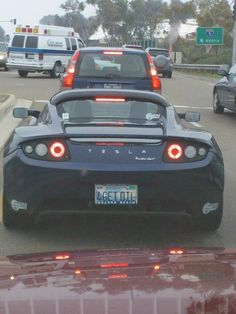license plate: (93, 182, 138, 211)
